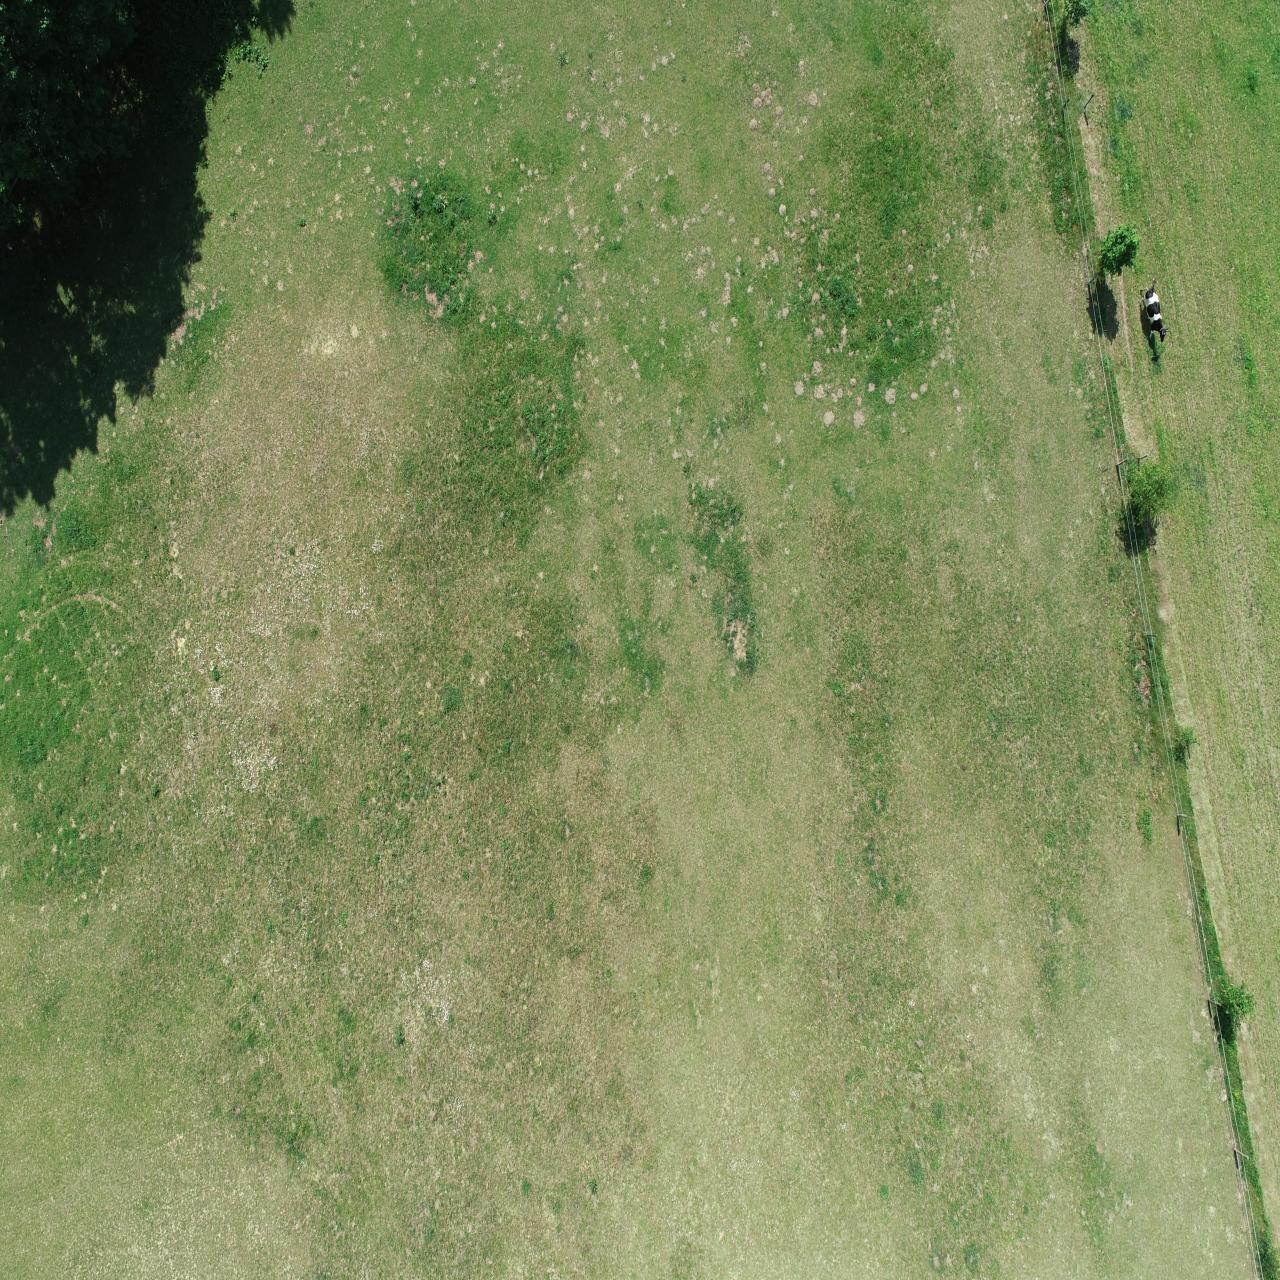cow: (1137, 274, 1176, 353)
